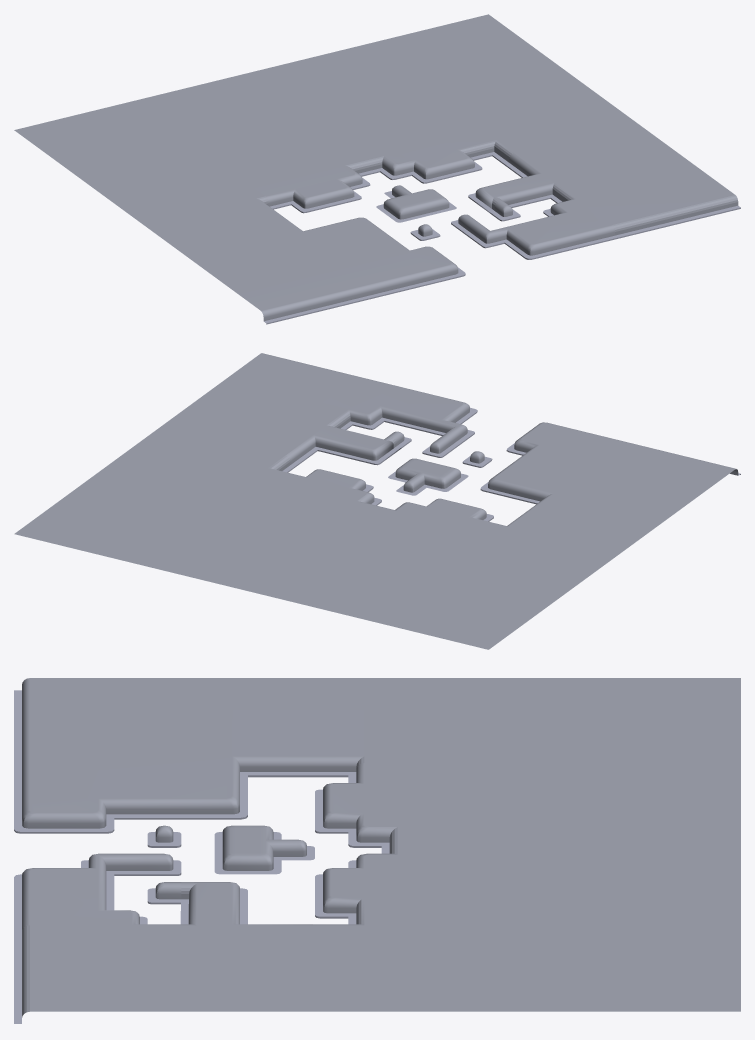
3 renders of one model, top to bottom at view 1: azimuth 30°, elevation 25°; view 2: azimuth 150°, elevation 25°; view 3: azimuth 270°, elevation 25°, orthographic. The views are drawn at different scales.
Visible parts, largest first — view 1: L39; view 2: L39; view 3: L39.
Part boxes in pixels (<box>): L39: <box>14,14,740,324</box>; L39: <box>14,353,740,649</box>; L39: <box>14,678,740,1023</box>.
Size of the model in its own units: 2952 by 58.34 by 2718.
